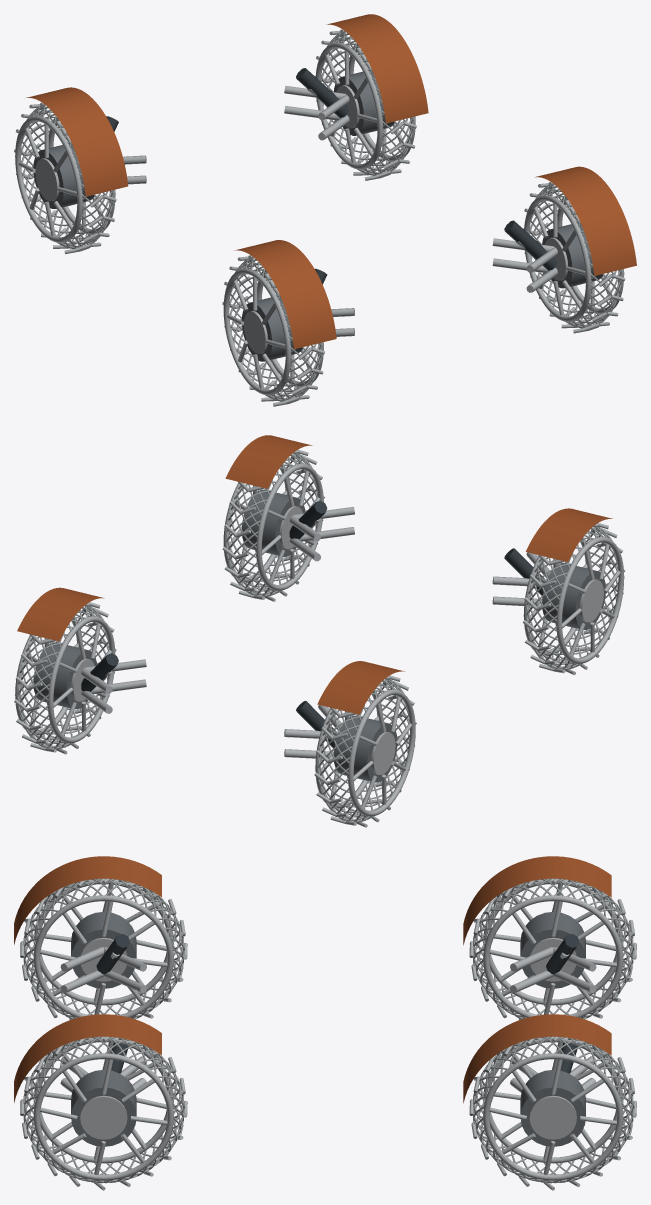
The model's file is lunar-wheel.glb.
3 views of the same model, one above another, from view 1: azimuth 30°, elevation 25°; view 2: azimuth 150°, elevation 25°; view 3: azimuth 270°, elevation 25° (orthographic). The views are drawn at different scales.
Size of the model in its own units: 2.15 by 0.8804 by 3.13.
